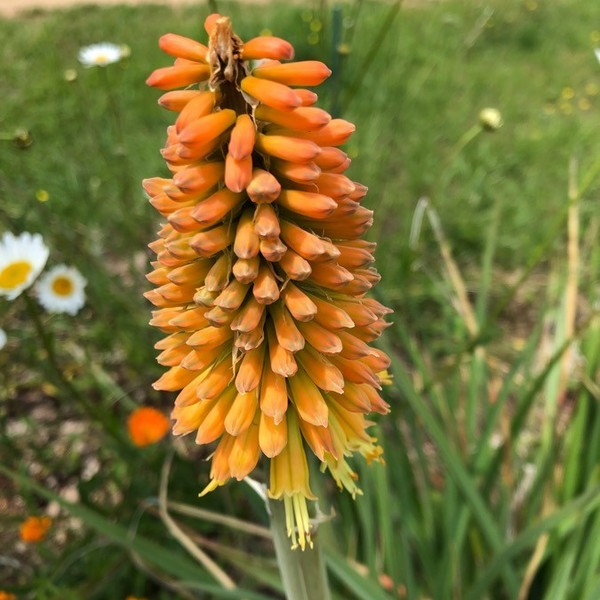obstacle: (97, 15, 445, 585)
